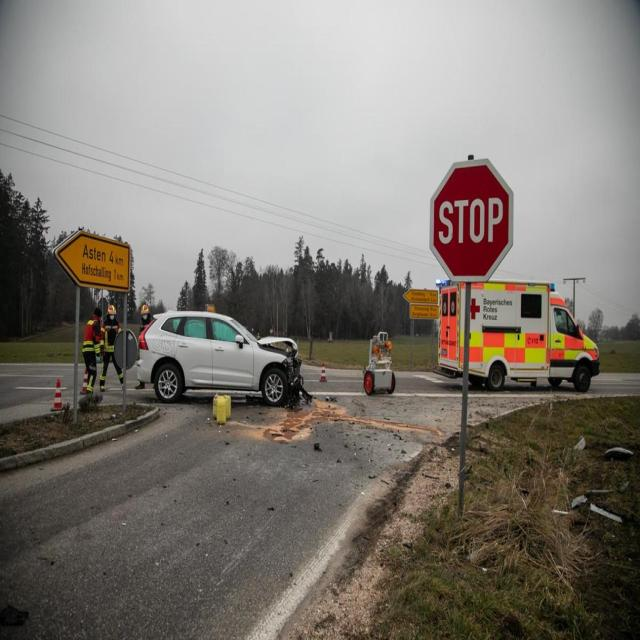light_vehicle: (428, 253, 617, 404), (123, 287, 315, 424), (130, 293, 316, 425)
